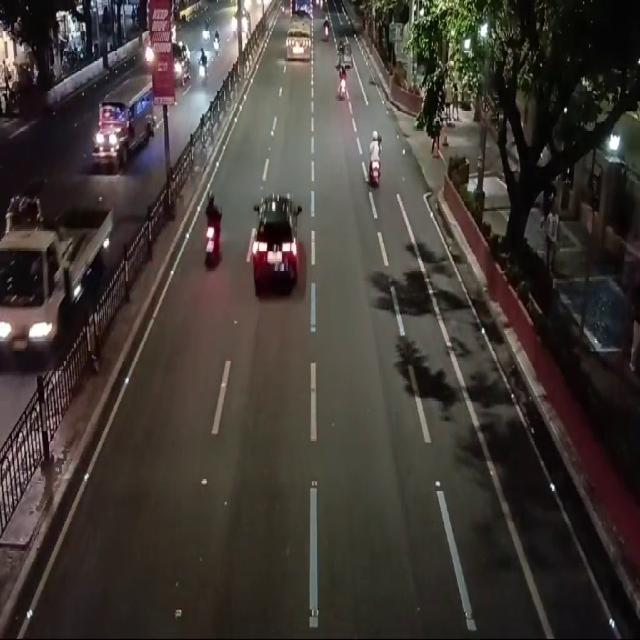car: (246, 181, 313, 321)
jeepney: (87, 71, 162, 174)
motorcycle: (196, 176, 234, 284), (282, 0, 314, 66), (366, 123, 388, 197), (338, 65, 350, 104)
truck: (0, 179, 120, 364)
